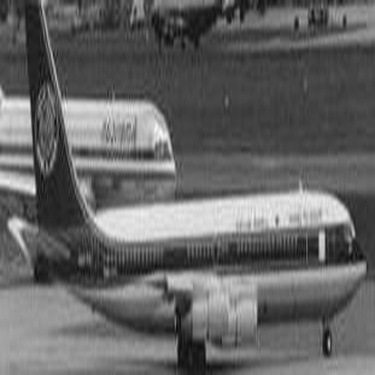airplane: (5, 2, 369, 371), (4, 77, 188, 219), (114, 1, 273, 62)
